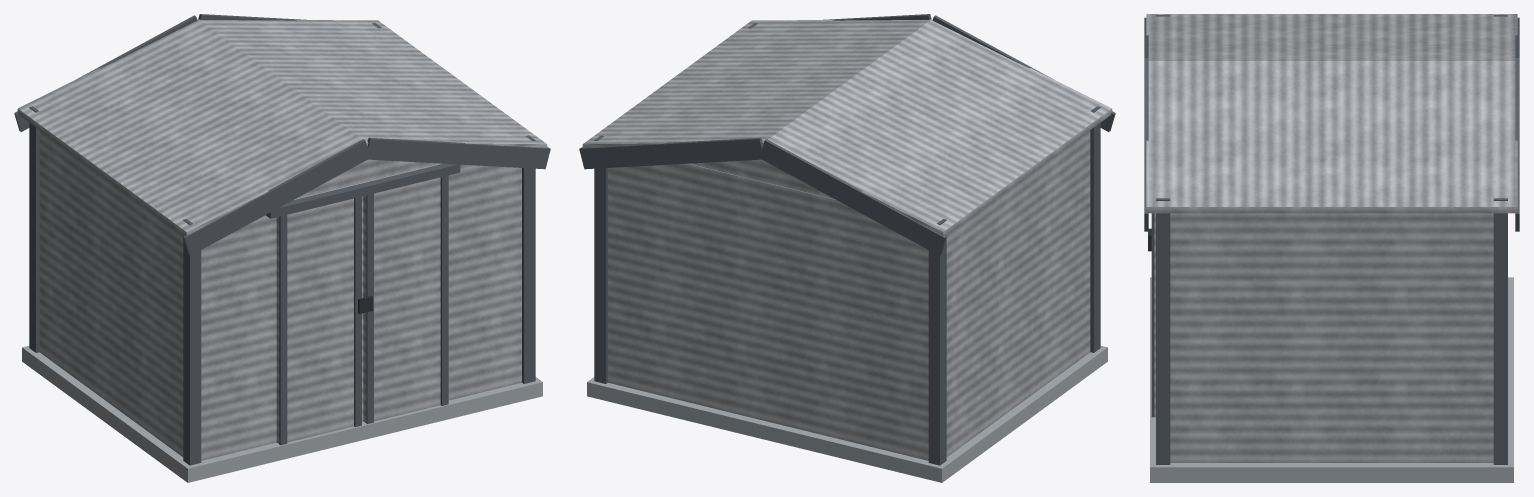
Rendered from corrugated-metal-shed.glb.
3 views of the same model, side by side, from view 1: azimuth 30°, elevation 25°; view 2: azimuth 150°, elevation 25°; view 3: azimuth 270°, elevation 25° (orthographic). The views are drawn at different scales.
Parts seen in each view (by area): view 1: Corrugated_Metal_Shed; view 2: Corrugated_Metal_Shed; view 3: Corrugated_Metal_Shed.
Part boxes in pixels (box(x1,y1,x2,y2)): Corrugated_Metal_Shed: box(14, 14, 550, 482); Corrugated_Metal_Shed: box(579, 14, 1115, 482); Corrugated_Metal_Shed: box(1144, 14, 1519, 482).
Bounding box in the file's own units: 2.7 × 2.13 × 2.18.
4 materials, 1 textured.
